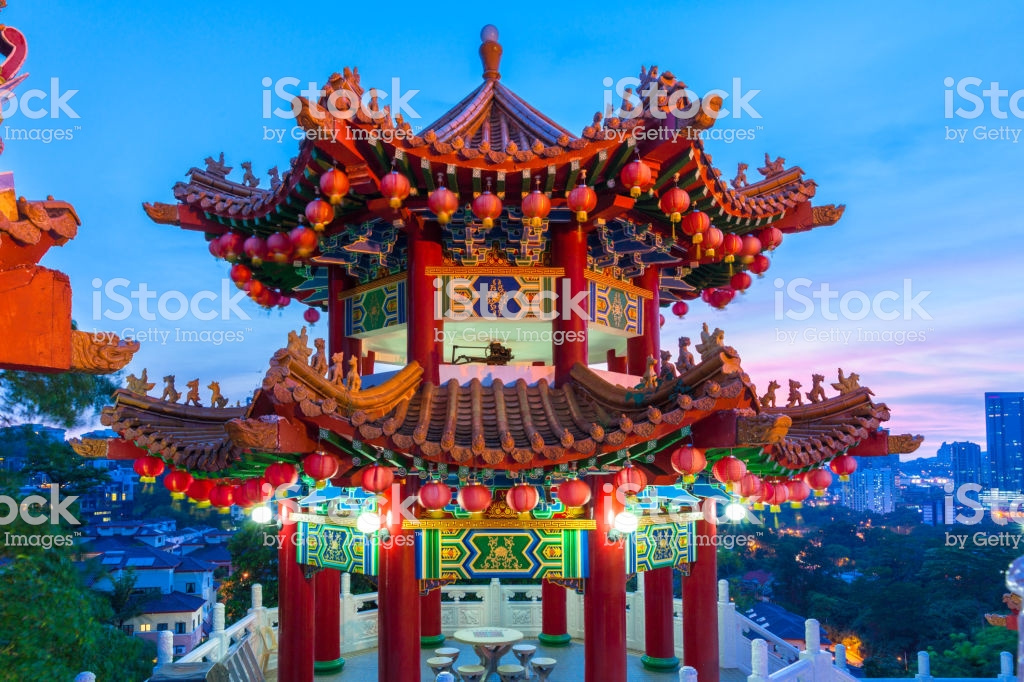Buddhist Temple: (179, 9, 820, 628)
